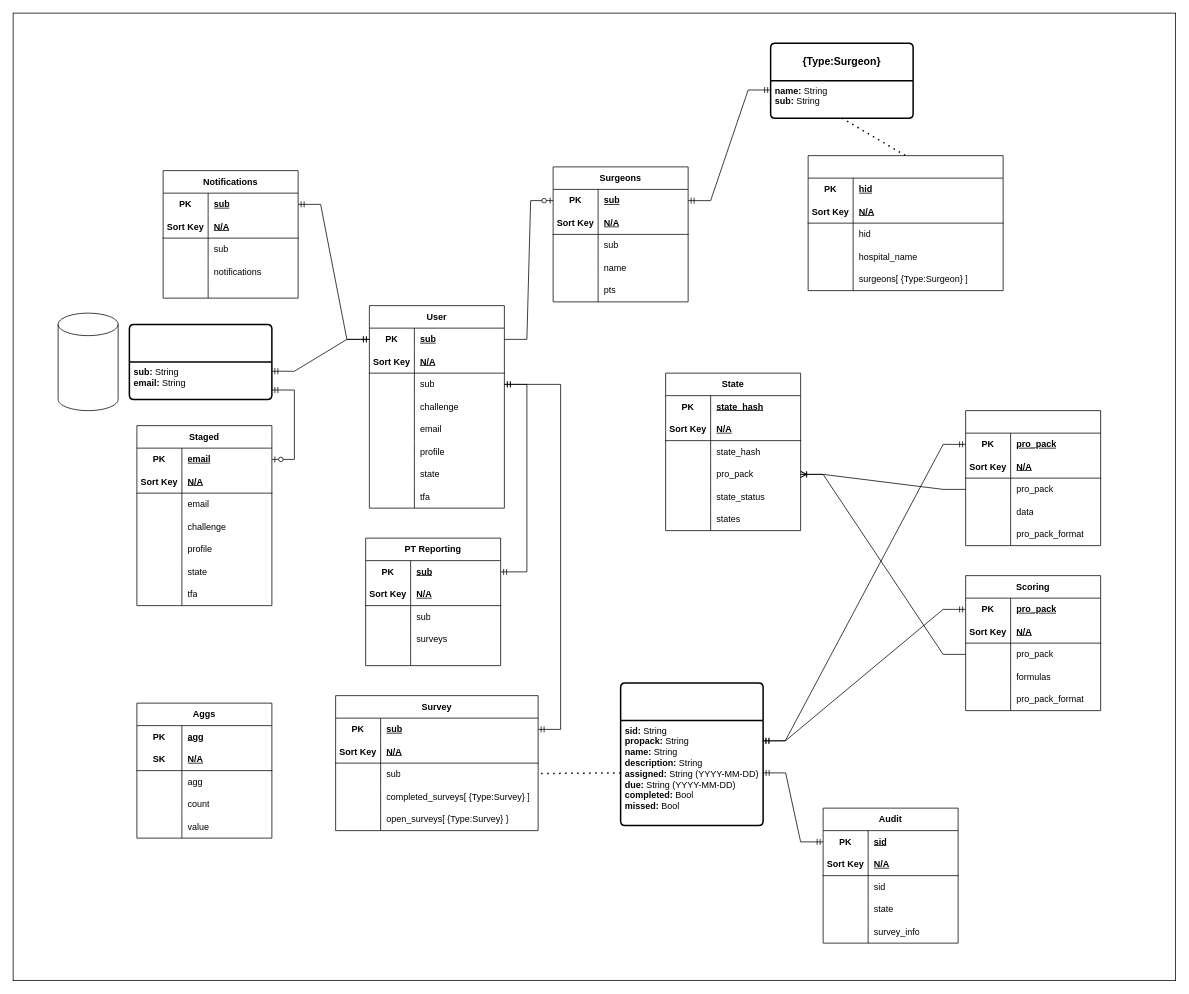
Image size: 1189x994. Some labels were removed from this diagram. The box of each missing label's shape, as (x1, y1, x2, y2) in pixels:
Cognito: (57, 312, 118, 411)
Hospitals: (807, 155, 1003, 291)
Questionnaire: (965, 410, 1101, 546)
User information: (128, 323, 272, 400)
{Type:Survey}: (620, 682, 764, 826)
